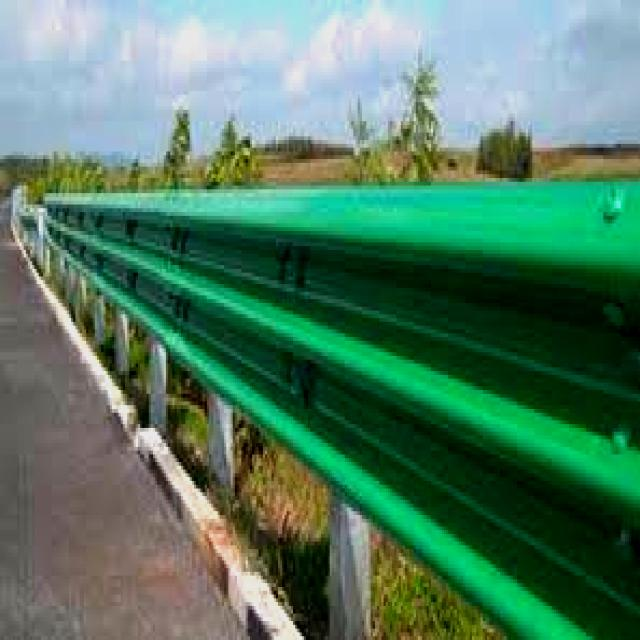Guard rail: (45, 182, 640, 636)
